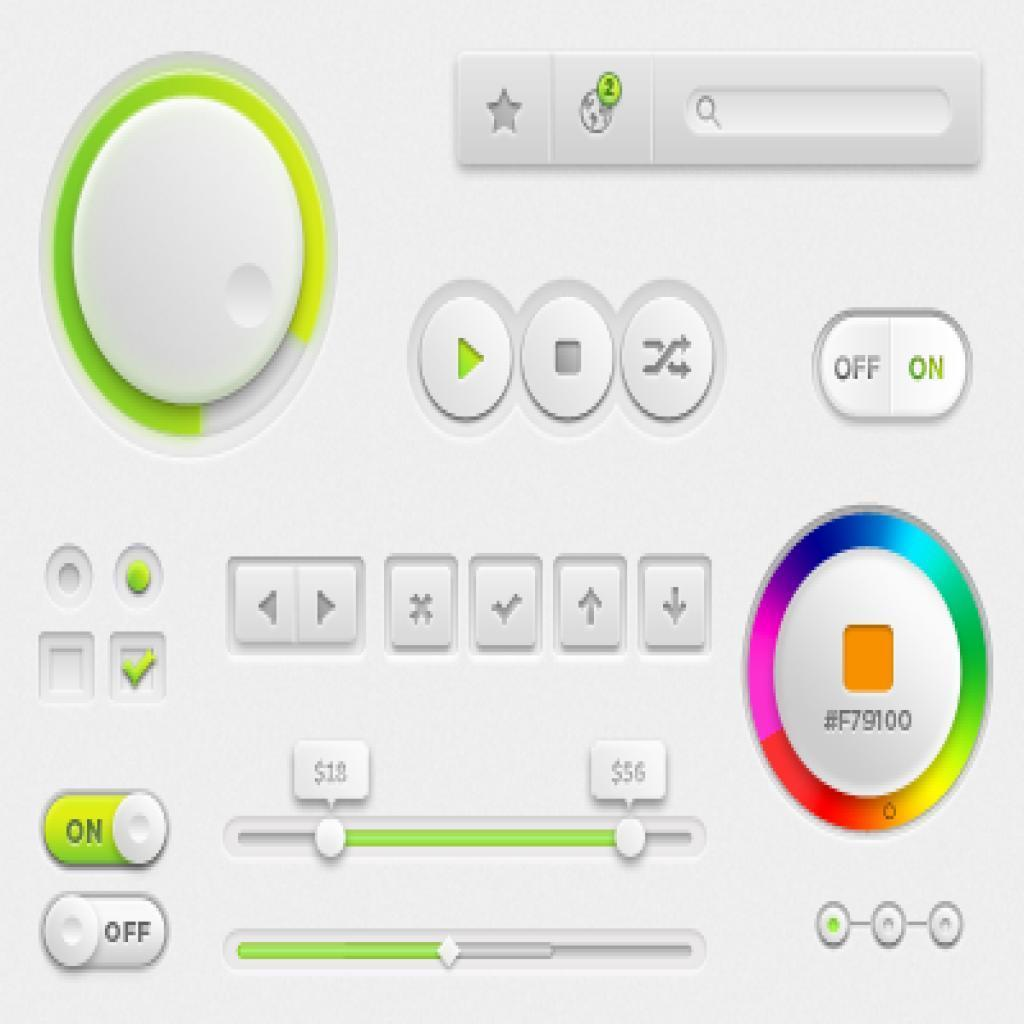checkbox: (466, 559, 544, 650), (112, 631, 177, 708), (37, 635, 99, 710)
icon: (635, 331, 704, 387), (485, 80, 530, 138), (448, 332, 488, 390), (548, 336, 589, 384), (576, 584, 611, 636), (661, 580, 695, 630), (489, 585, 525, 631), (406, 590, 438, 636), (312, 586, 346, 628), (254, 586, 283, 629)
input: (682, 82, 958, 145)
radio: (110, 535, 166, 612), (41, 539, 94, 606)
slider: (197, 721, 714, 985)
switch: (808, 291, 986, 430), (40, 883, 171, 979), (37, 787, 174, 877)
